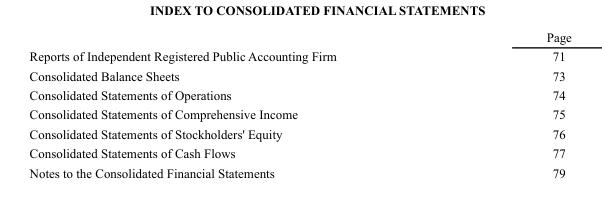table: (28, 29, 570, 179)
table column: (28, 29, 440, 179), (440, 29, 570, 179)
table column header: (28, 29, 570, 46)
table row: (28, 84, 570, 104), (28, 123, 570, 143), (28, 46, 570, 65), (28, 65, 570, 84), (28, 104, 570, 123), (28, 143, 570, 162), (28, 29, 570, 46), (28, 162, 570, 179)
